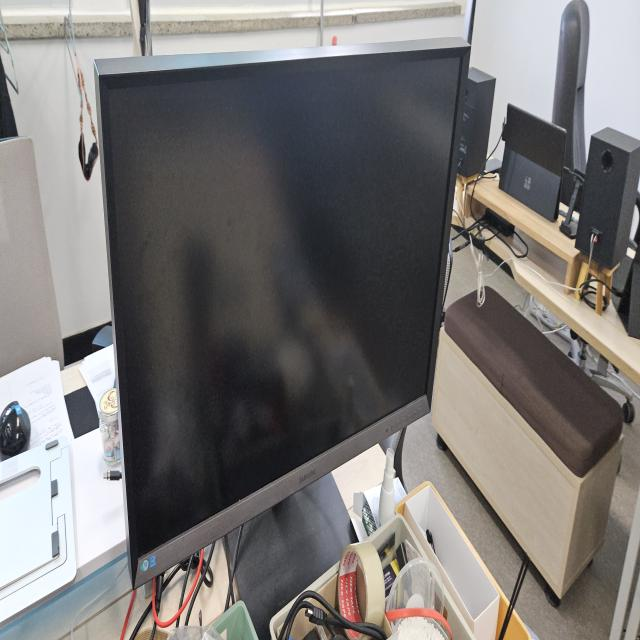Monitor: (91, 34, 472, 589)
Mouse: (0, 396, 32, 460)
